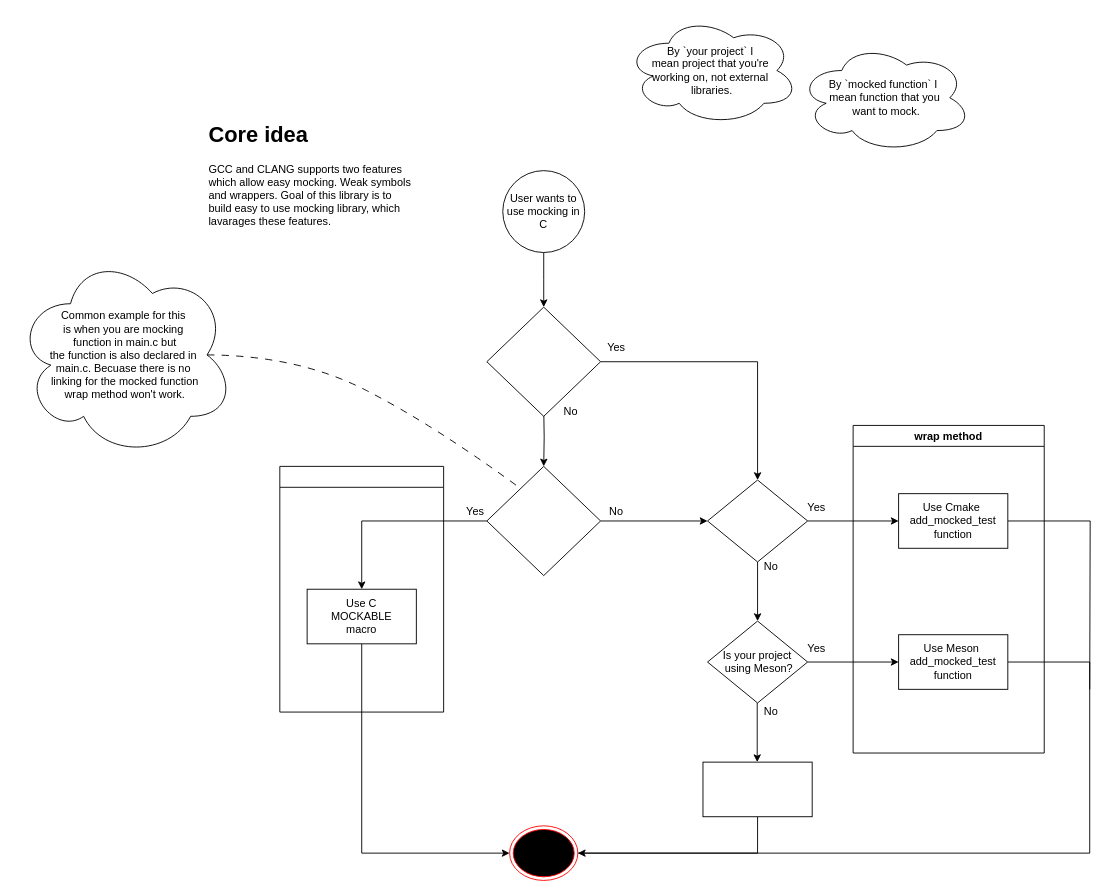
This 1107x896 diagram has some shape labels left out. Each missing label, with the box of its shape:
Is mocked function from external library?: (486, 306, 601, 416)
Is mocked function within the same compilation unit ?: (486, 465, 601, 576)
Is your project using Cmake?: (707, 479, 808, 562)
Use different mocking framework: (702, 761, 812, 817)
weak method: (279, 465, 444, 712)
